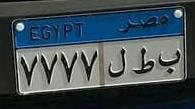7: (19, 53, 39, 89), (39, 51, 59, 86), (79, 49, 98, 82), (59, 50, 78, 83)
Taa: (132, 46, 156, 77)
baa: (157, 49, 183, 75)
laam: (107, 45, 127, 79)
